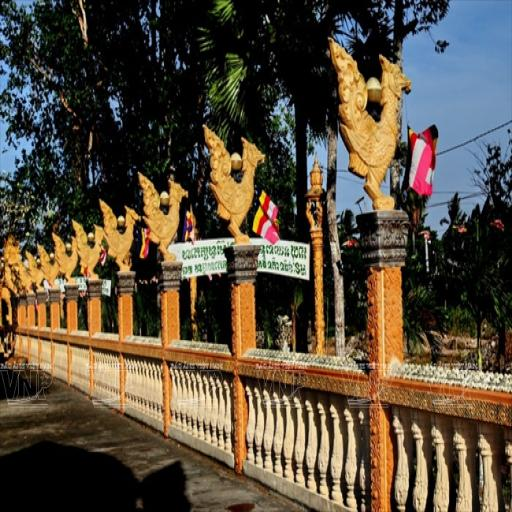than: (339, 58, 412, 210), (210, 140, 270, 252), (143, 177, 192, 269), (105, 203, 142, 274), (79, 220, 105, 282), (58, 225, 76, 286), (42, 238, 56, 291)
